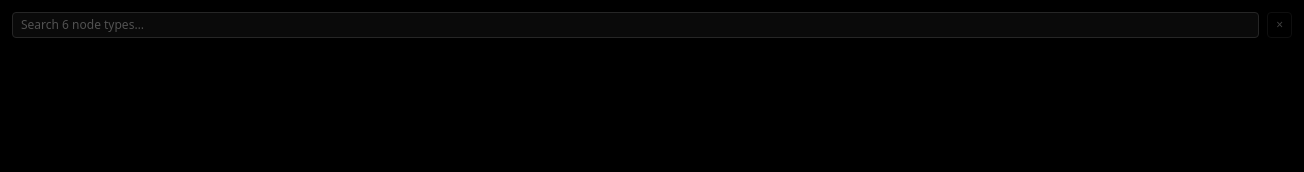
Test: SearchPanel › shows matching nodes with name, type and file path
The width and height of the screenshot is (1304, 172).
Type "app" into the field named "Search graph nodes".
click(636, 25); type("app")  # box [12,12,1259,38]
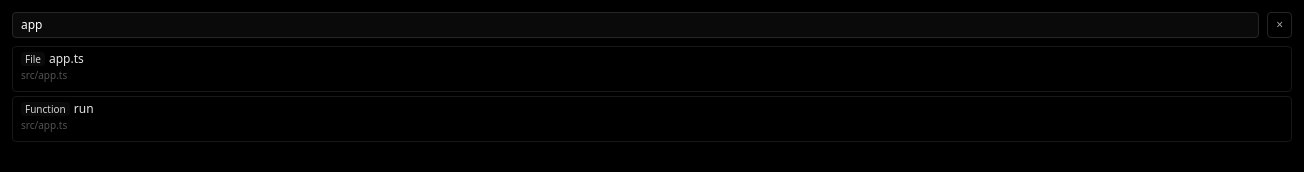
Expected: the list item "app.ts" shows "File", [21,51,1283,83]
Expected: the list item "app.ts" shows "src/app.ts", [21,51,1283,83]
